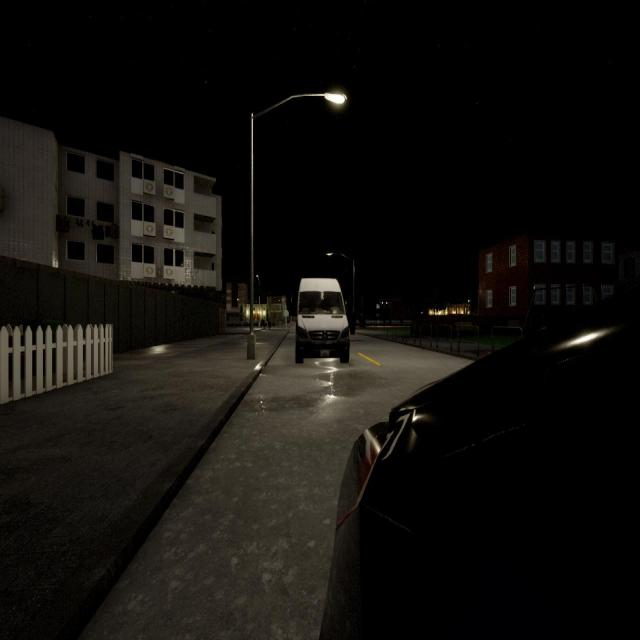Traffic_Signs: (283, 310, 289, 317)
Vehicle: (320, 285, 640, 638), (295, 278, 350, 365)
